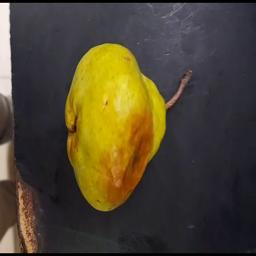Pear Rotten: (55, 41, 201, 212)
